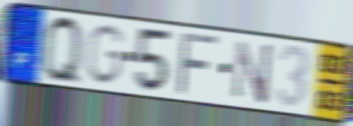3: (274, 43, 315, 112)
5: (132, 25, 179, 95)
F: (173, 32, 223, 98)
G: (83, 23, 127, 87)
N: (232, 38, 275, 107)
Q: (41, 12, 84, 89)
